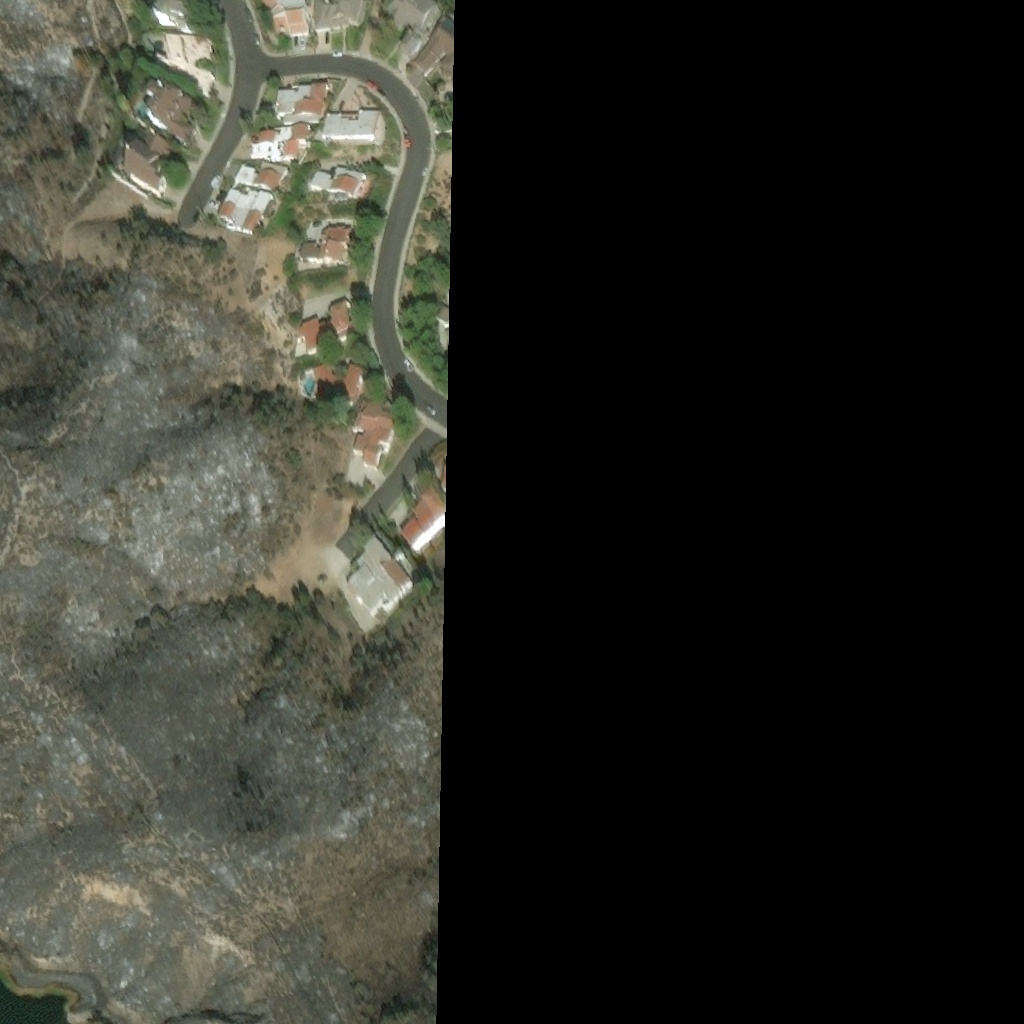0 no-damage: (345, 543, 418, 611), (353, 391, 408, 477), (401, 5, 452, 78), (297, 222, 360, 278), (123, 126, 174, 189), (266, 65, 326, 117), (310, 363, 369, 415), (215, 187, 275, 238), (380, 0, 439, 50), (144, 81, 194, 137), (299, 307, 358, 354), (307, 167, 373, 209), (162, 28, 210, 85), (248, 120, 308, 159), (401, 495, 443, 549), (234, 160, 291, 197), (321, 104, 380, 139), (151, 0, 187, 24), (307, 0, 359, 13), (263, 0, 300, 16), (431, 454, 444, 483)
